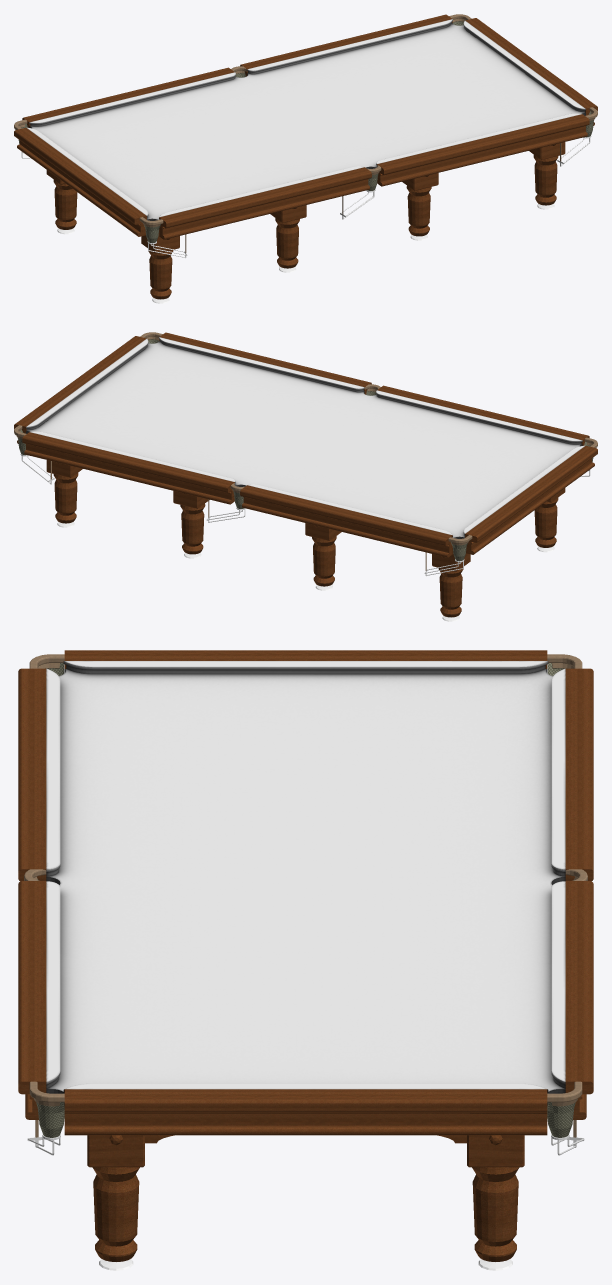
The model's file is SnookerTable01.fbx.
3 renders of one model, top to bottom at view 1: azimuth 30°, elevation 25°; view 2: azimuth 150°, elevation 25°; view 3: azimuth 270°, elevation 25°, orthographic. The views are drawn at different scales.
Visible parts, largest first — view 1: Snooker01; view 2: Snooker01; view 3: Snooker01.
Boxes of the visible parts, x1=… form: Snooker01: x1=14, y1=14, x2=597, y2=303; Snooker01: x1=14, y1=332, x2=597, y2=621; Snooker01: x1=18, y1=650, x2=593, y2=1270.
Bounding box in the file's own units: 387 × 80.01 × 208.
